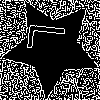L: (27, 21, 75, 54)
